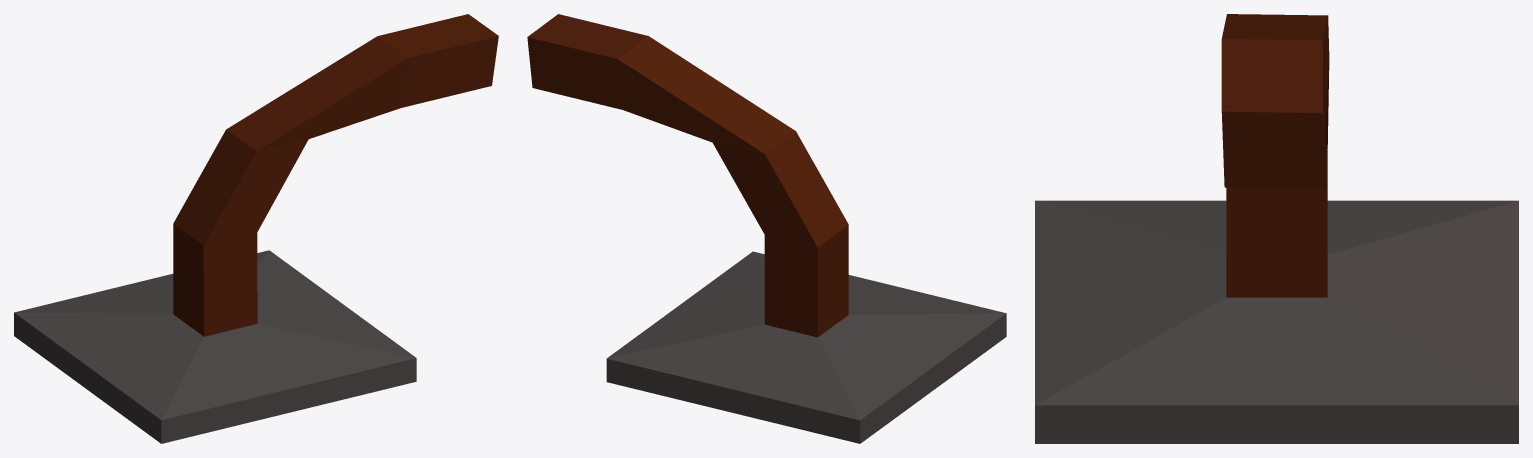
Rendered from Platform.fbx.
The picture shows the model from 3 angles, left to right: view 1: azimuth 30°, elevation 25°; view 2: azimuth 150°, elevation 25°; view 3: azimuth 270°, elevation 25°; orthographic projection. The views are drawn at different scales.
Visible parts, largest first — view 1: Cube; view 2: Cube; view 3: Cube.
Part boxes in pixels (<box>): Cube: <box>14,14,498,443</box>; Cube: <box>527,14,1006,443</box>; Cube: <box>1035,14,1518,443</box>.
Bounding box in the file's own units: 309 × 203 × 200.
